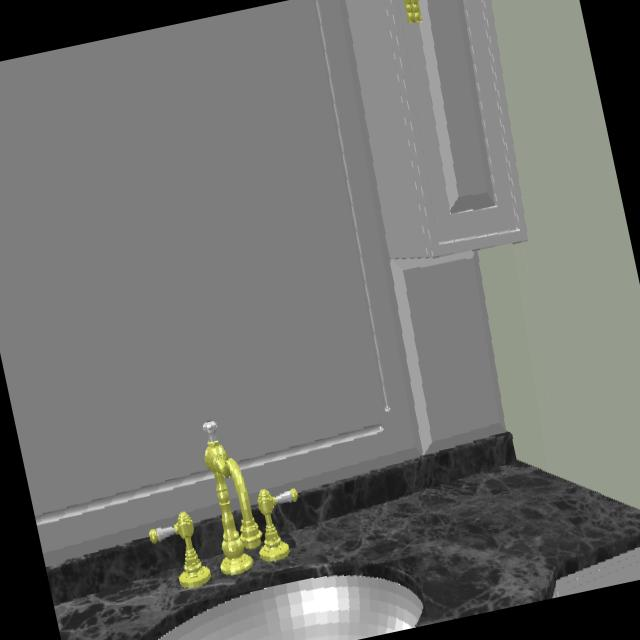washbasin: (158, 576, 425, 640)
